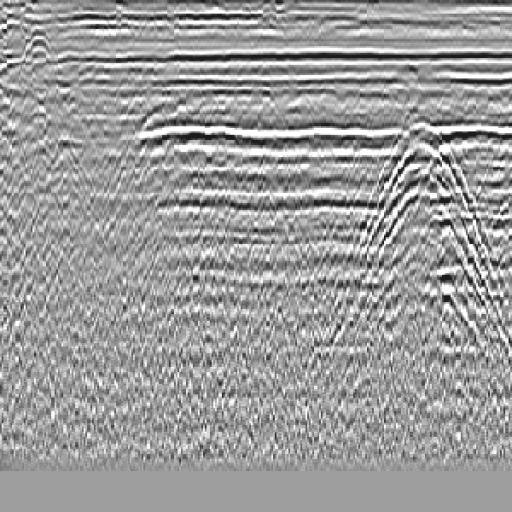non-metallic: (346, 107, 499, 344)
